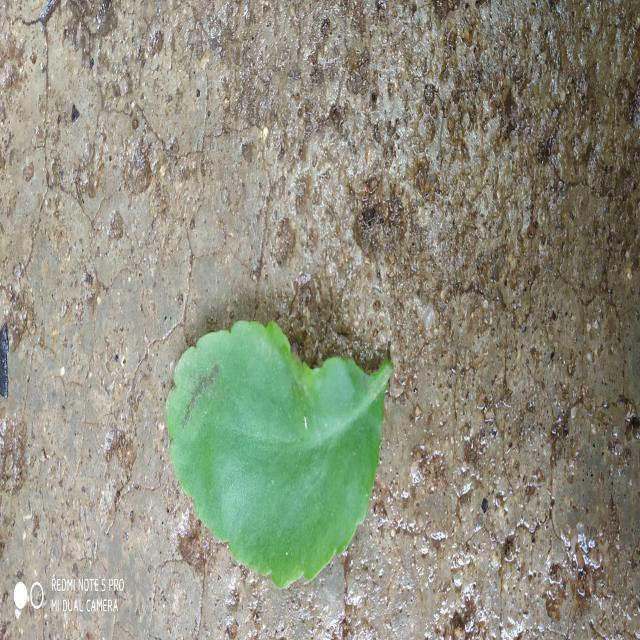spinach: (165, 322, 392, 588)
